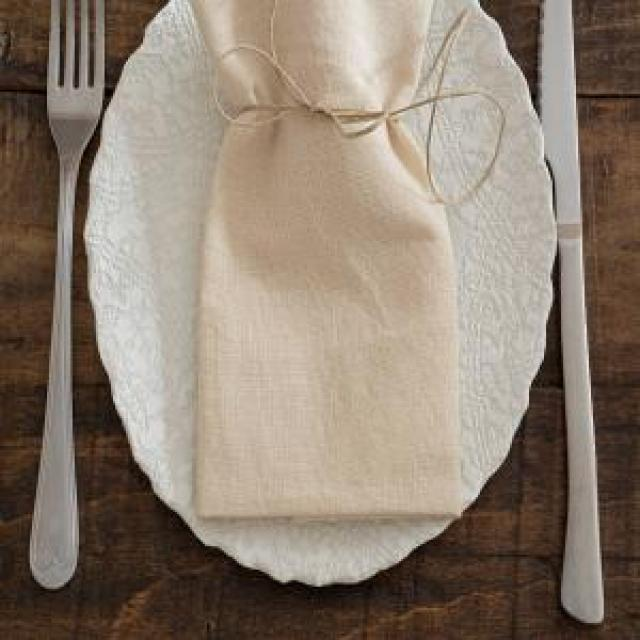knife: (531, 0, 605, 627)
